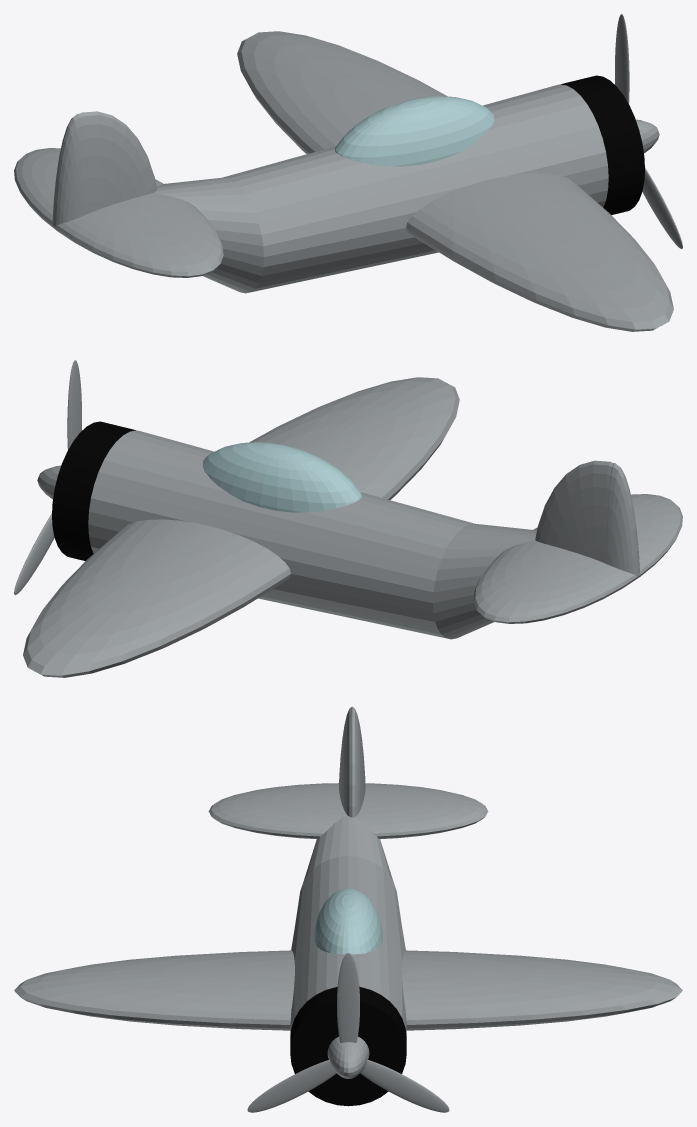
File: jp_fighter.fbx
3 renders of one model, top to bottom at view 1: azimuth 30°, elevation 25°; view 2: azimuth 150°, elevation 25°; view 3: azimuth 270°, elevation 25°, orthographic. The views are drawn at different scales.
Parts seen in each view (by area): view 1: Fighter; view 2: Fighter; view 3: Fighter.
Part boxes in pixels (x1,y1,x2,y2): Fighter: (14, 14, 682, 331); Fighter: (14, 360, 682, 677); Fighter: (14, 706, 682, 1112).
Bounding box in the file's own units: 99.47 × 35.19 × 115.
3 materials, 3 textured.
